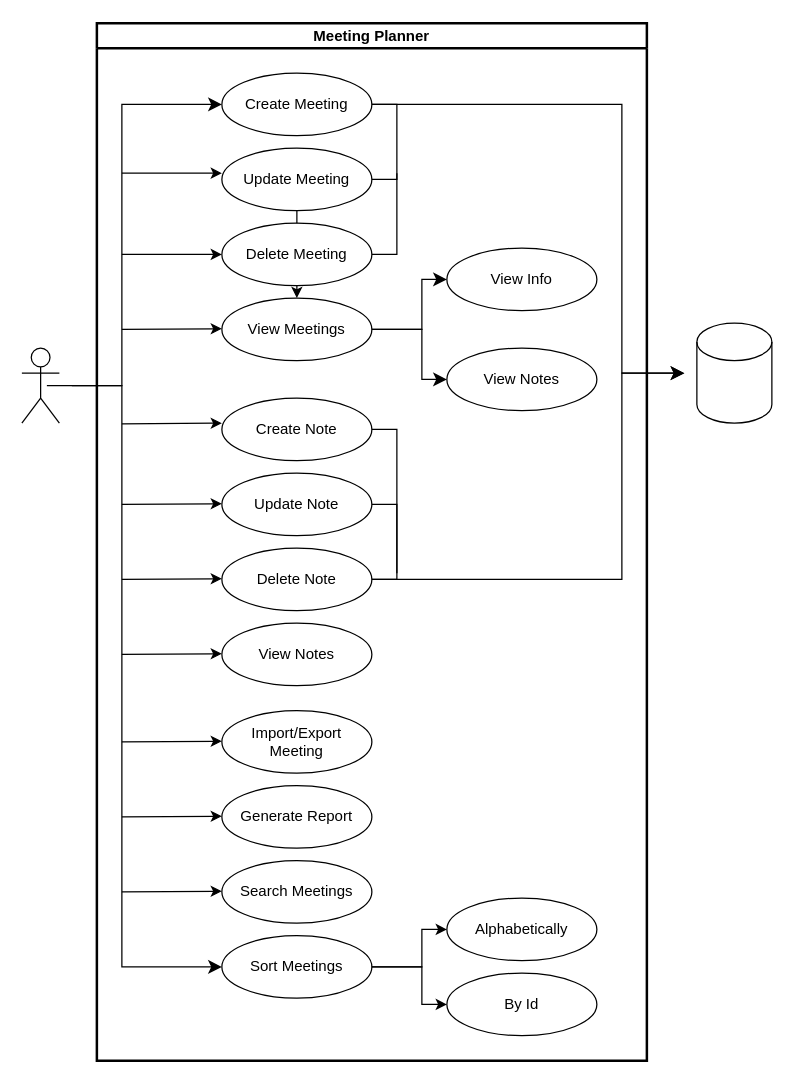
Some shapes in this 794 by 1083 pixel diagram are drawn without their labels. Here are the shapes that lost their labels. From the top down, the centre of each, then its label:
the point at 40,385: User
the point at 734,372: DB
